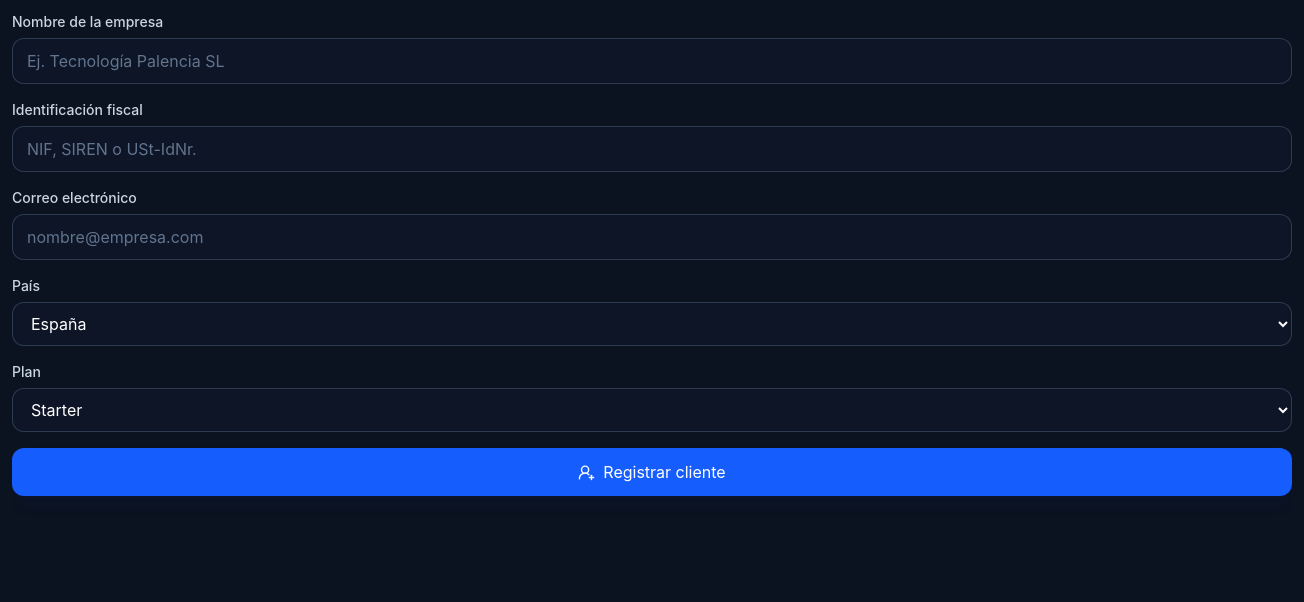
Scenario: CustomerForm validation feedback › identifies an invalid plan field
The width and height of the screenshot is (1304, 602).
Type "Empresa de prueba" into the field labelled "Nombre de la empresa".
click(652, 61); type("Empresa de prueba")  # box [12,38,1292,84]
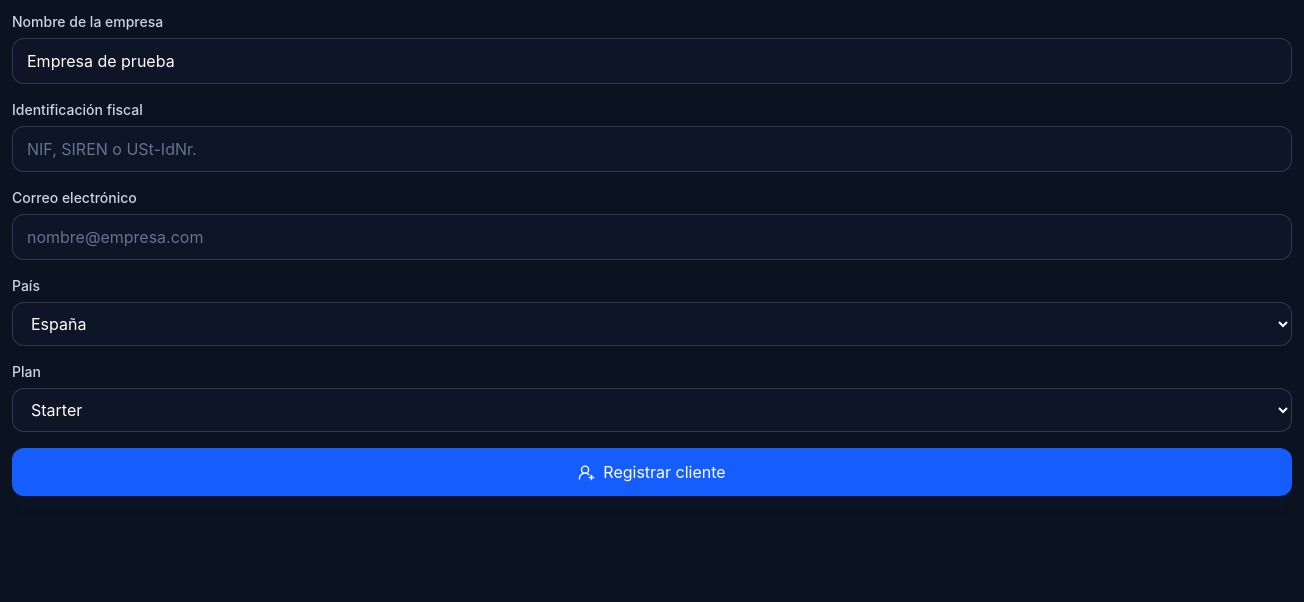
Type "12345678Z" into the field labelled "Identificación fiscal".
click(652, 149); type("12345678Z")  # box [12,126,1292,172]
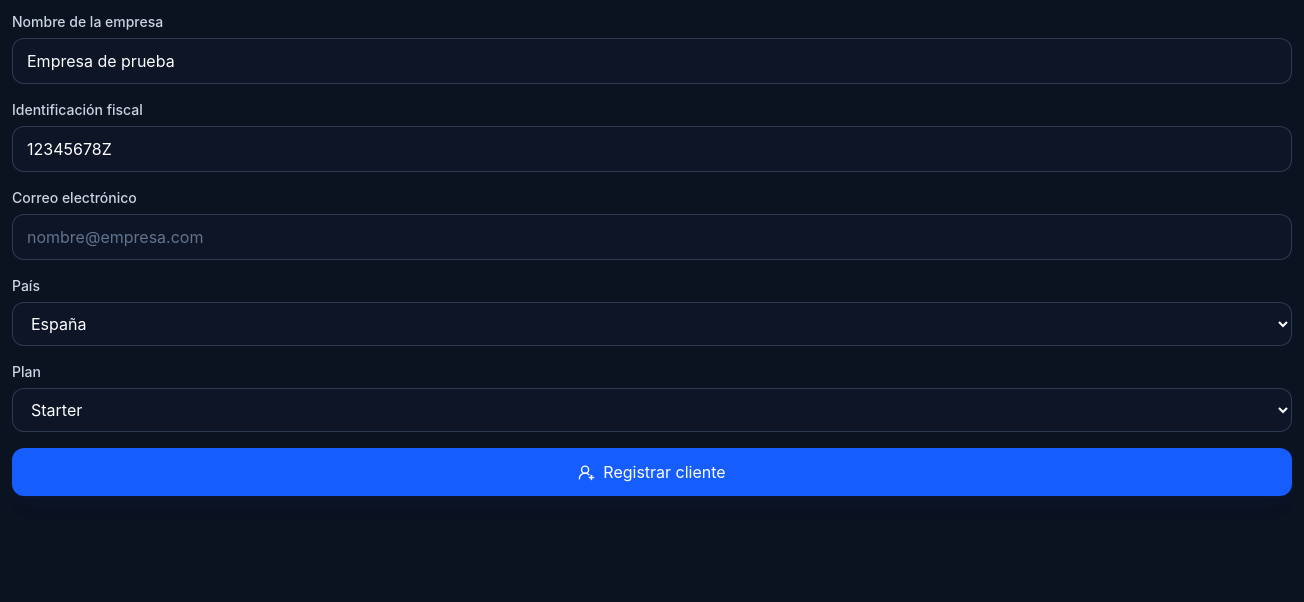
Type "contacto@empresa.test" into the field labelled "Correo electrónico".
click(652, 237); type("contacto@empresa.test")  # box [12,214,1292,260]
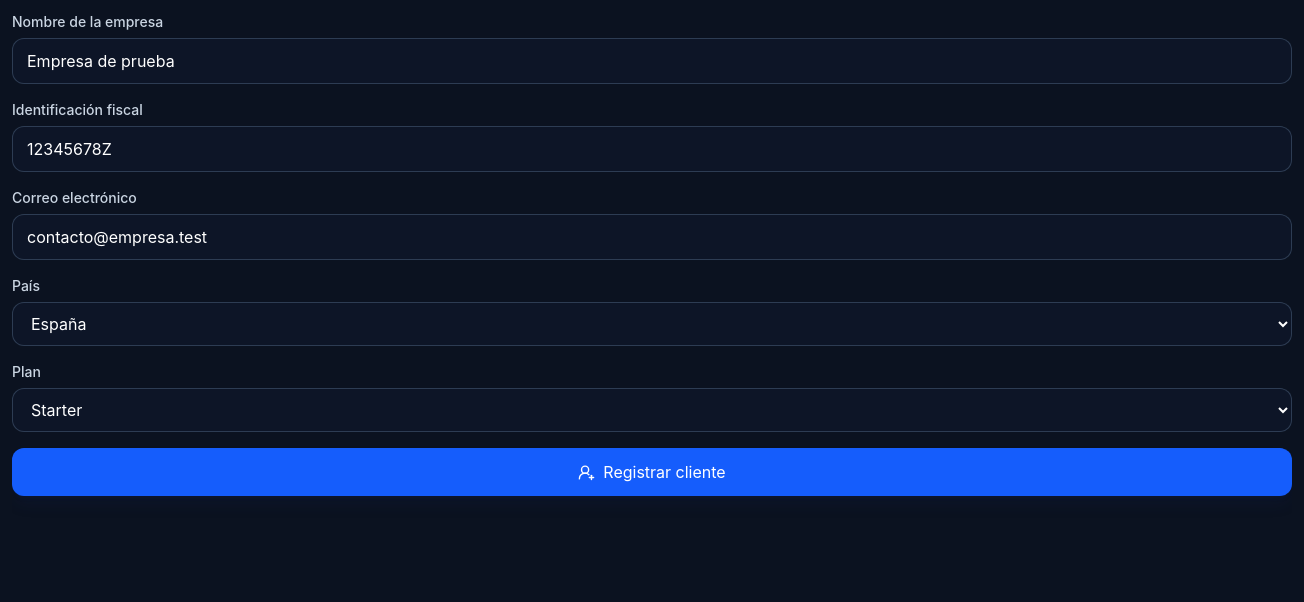
Select "España" in the dropdown labelled "País" at {"x": 652, "y": 324}, box [12,302,1292,346]
Submit the form named "Registrar cliente"
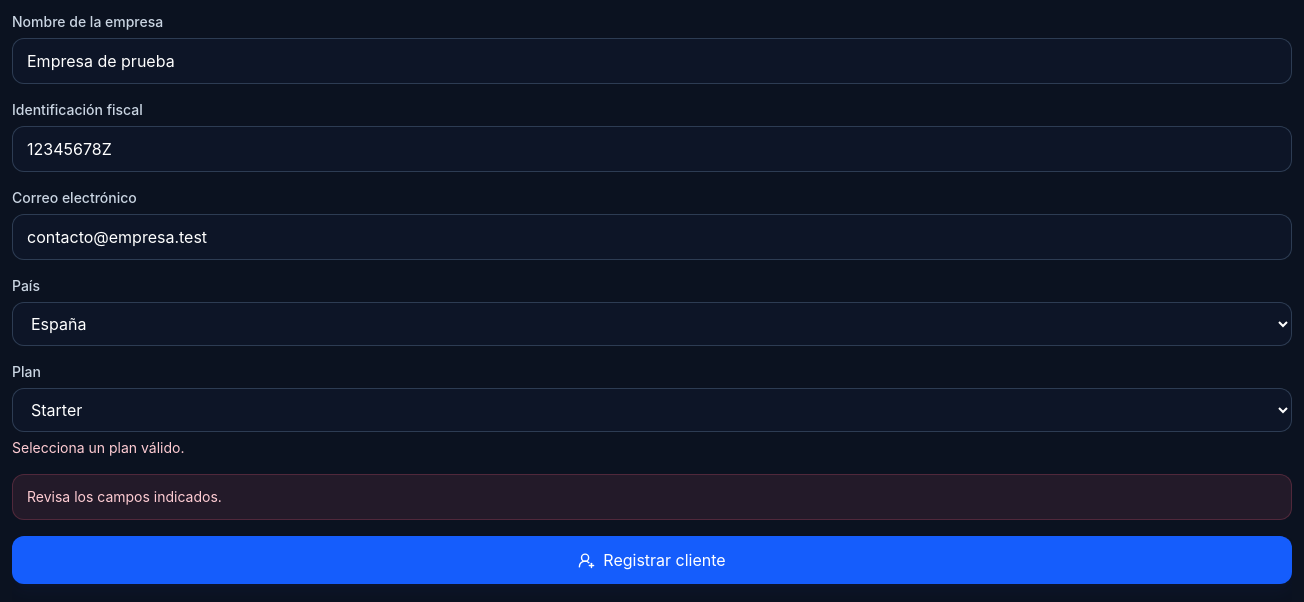
Result: the text "Selecciona un plan válido." is shown at [12,439,184,456]
Result: the message reads "Revisa los campos indicados." at [27,488,222,505]
